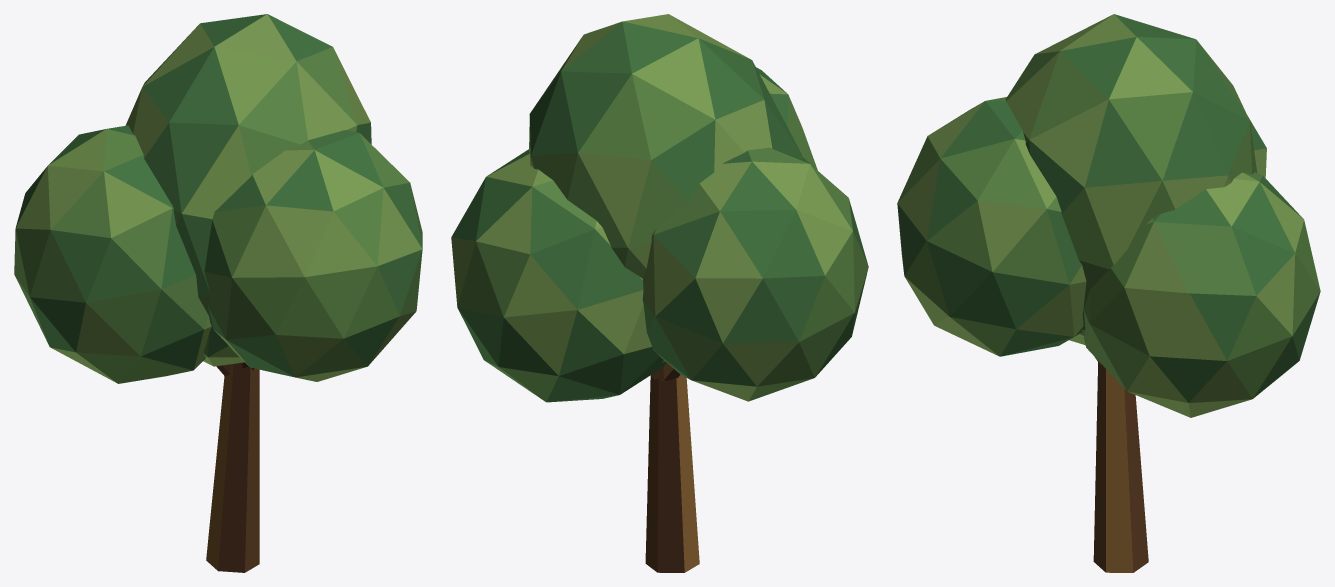
Rendered from SM_Tree_Lime.glb.
The picture shows the model from 3 angles, left to right: view 1: azimuth 30°, elevation 25°; view 2: azimuth 150°, elevation 25°; view 3: azimuth 270°, elevation 25°; orthographic projection. The views are drawn at different scales.
Visible parts, largest first — view 1: SM_Tree_Lime; view 2: SM_Tree_Lime; view 3: SM_Tree_Lime.
Boxes of the visible parts, x1,y1,x2,y2 form: SM_Tree_Lime: [14, 14, 422, 572]; SM_Tree_Lime: [451, 14, 868, 572]; SM_Tree_Lime: [897, 14, 1320, 572].
Bounding box in the file's own units: 4.58 × 6.56 × 4.6.
1 material, 1 textured.
